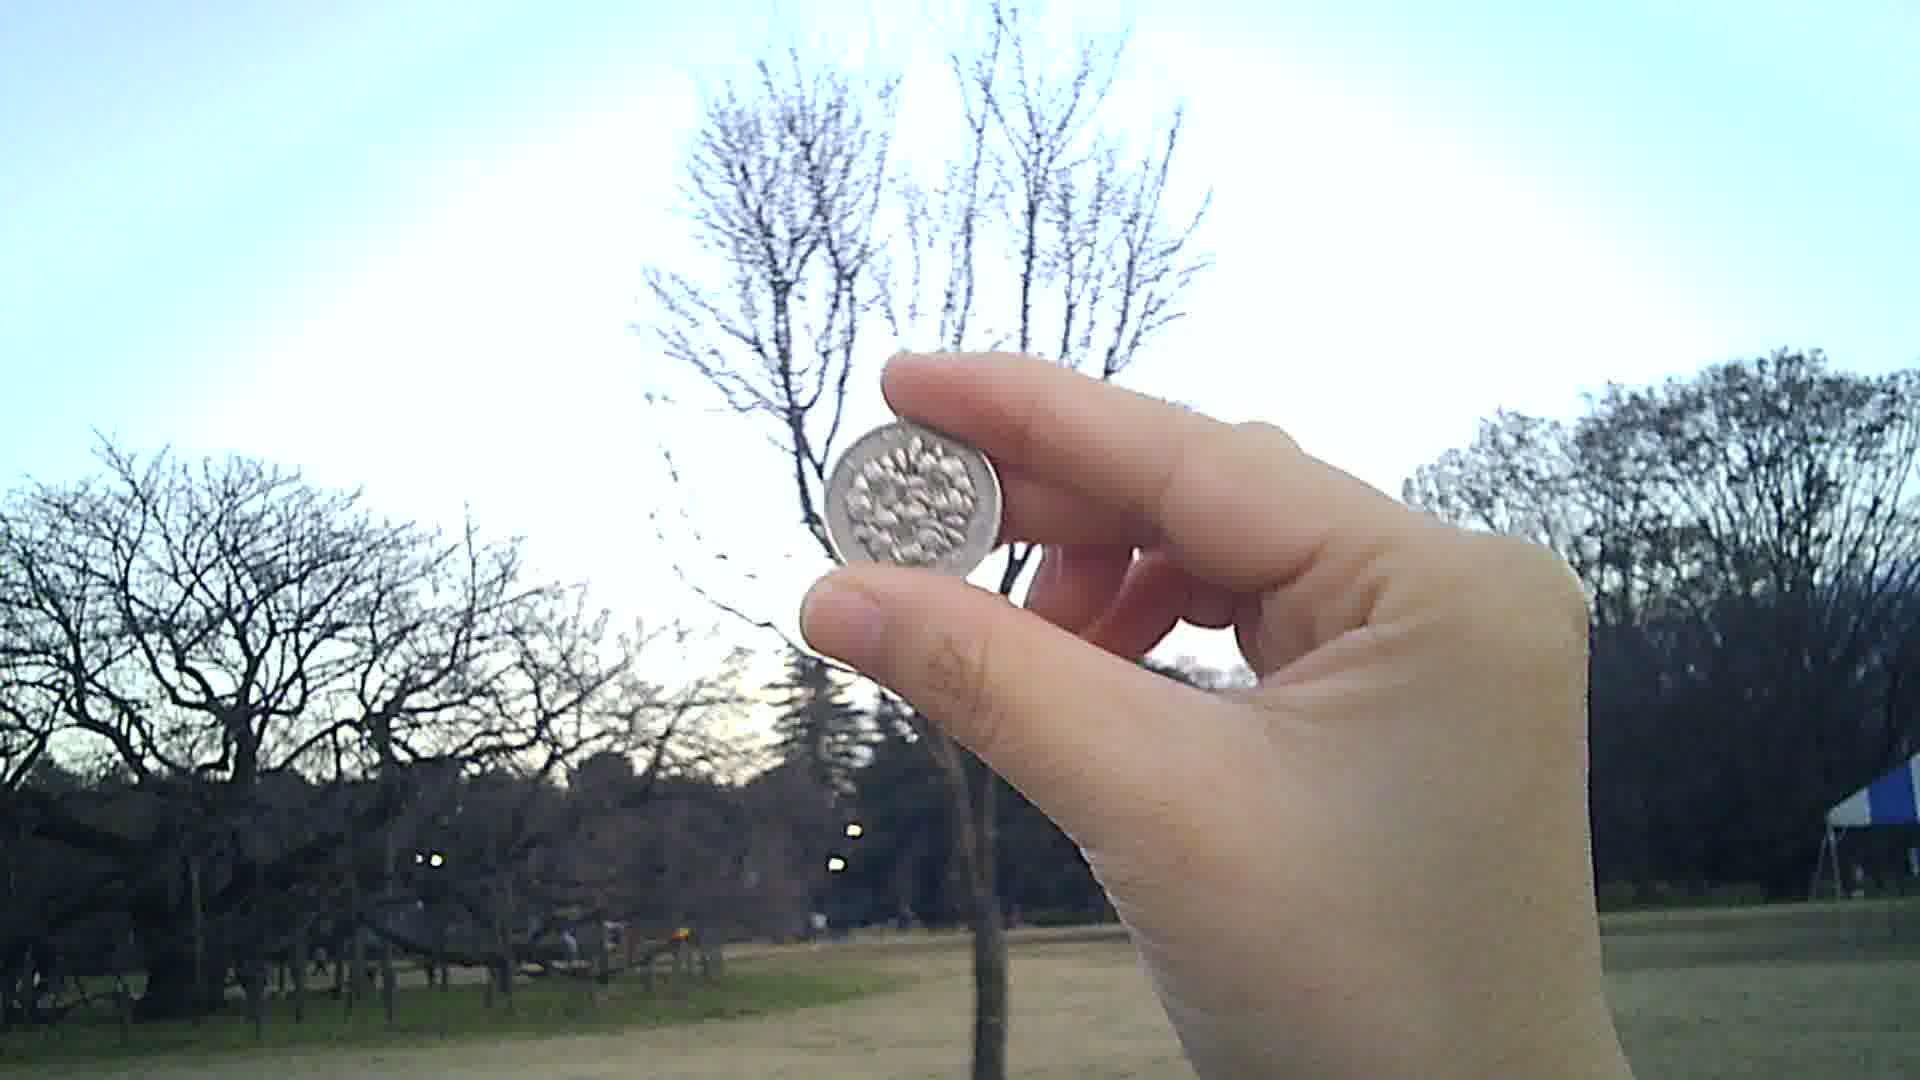100 Yen: (816, 421, 1007, 583)
